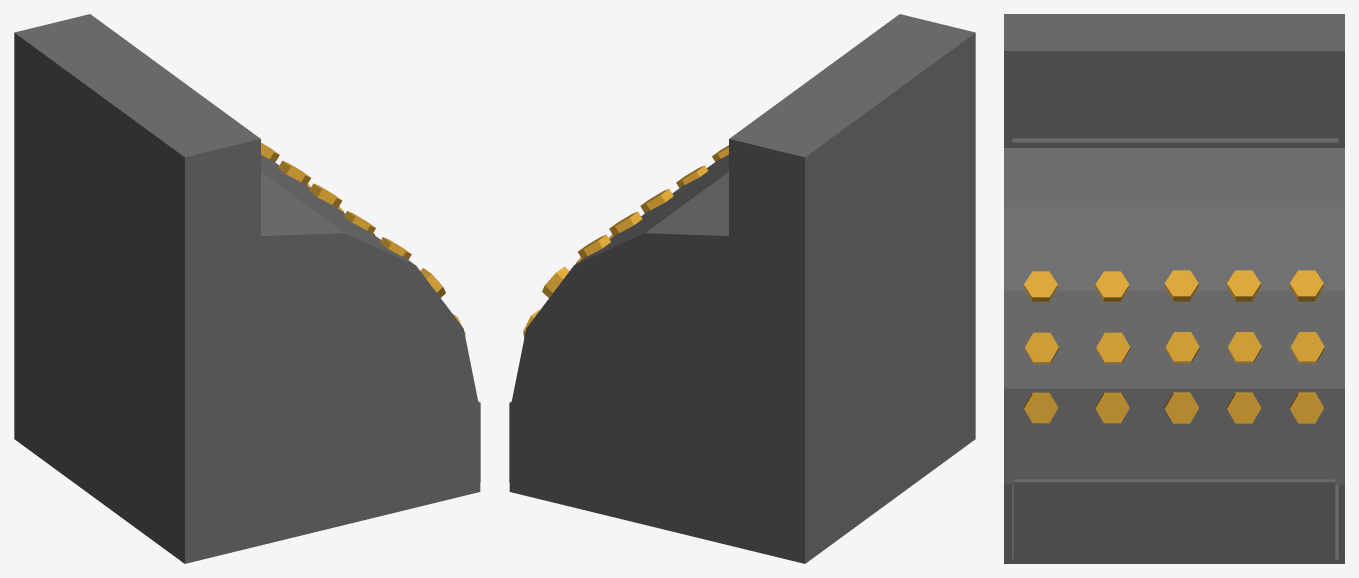
Rendered from Register.fbx.
3 renders of one model, left to right at view 1: azimuth 30°, elevation 25°; view 2: azimuth 150°, elevation 25°; view 3: azimuth 270°, elevation 25°, orthographic.
Parts seen in each view (by area): view 1: Register; view 2: Register; view 3: Register, RegDrawer, Cylinder.007, Cylinder.005, Cylinder.006, Cylinder.012, Cylinder.002, Cylinder, Cylinder.010, Cylinder.001, Cylinder.011, Cylinder.003 (+5 smaller).
Boxes of the visible parts, <box> form: Register: <box>14,14,480,563</box>; Register: <box>509,14,975,563</box>; Register: <box>1004,14,1344,563</box>; RegDrawer: <box>1013,479,1335,561</box>; Cylinder.007: <box>1164,270,1198,301</box>; Cylinder.005: <box>1289,270,1323,301</box>; Cylinder.006: <box>1227,270,1260,301</box>; Cylinder.012: <box>1164,392,1198,423</box>; Cylinder.002: <box>1165,332,1199,363</box>; Cylinder: <box>1290,332,1324,363</box>; Cylinder.010: <box>1289,392,1323,423</box>; Cylinder.001: <box>1228,332,1261,363</box>; Cylinder.011: <box>1227,392,1260,423</box>; Cylinder.003: <box>1096,332,1130,363</box>.
Size of the model in its own units: 203 by 263 by 200.
